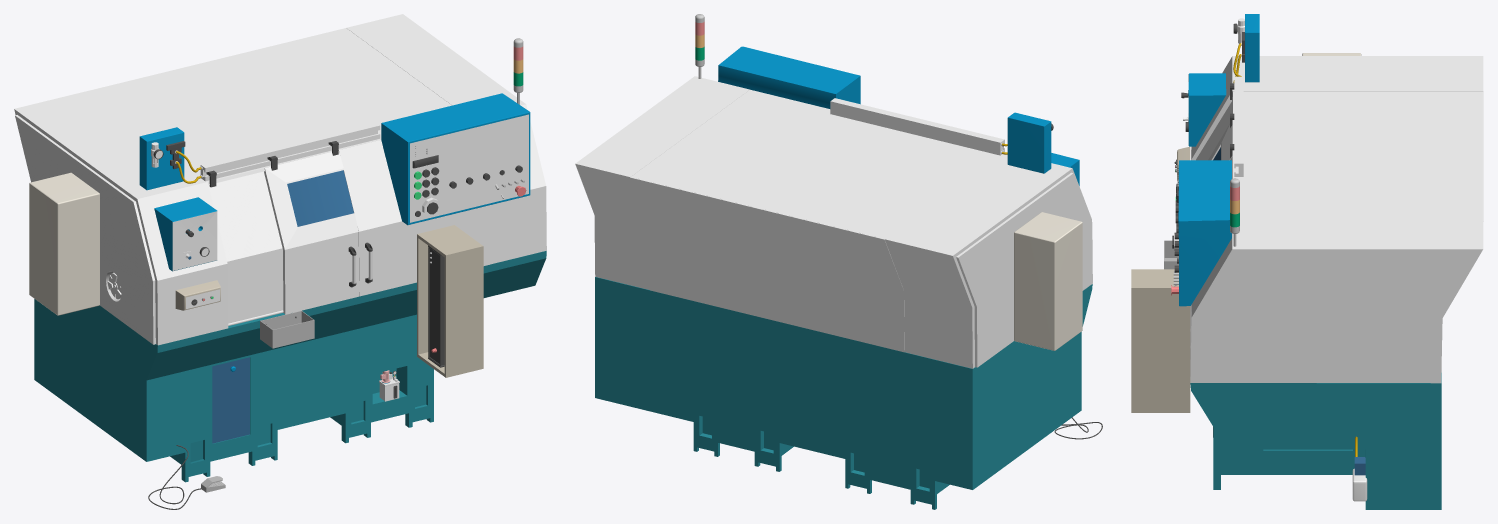
Rendered from asset.glb.
The picture shows the model from 3 angles, left to right: view 1: azimuth 30°, elevation 25°; view 2: azimuth 150°, elevation 25°; view 3: azimuth 270°, elevation 25°; orthographic projection. The views are drawn at different scales.
Parts seen in each view (by area): view 1: polySurface30, polySurface20, polySurface13, polySurface24, pCube41, polySurface21, polySurface27, key_board, polySurface32, pCube35, pCube4, hy_1 (+8 smaller); view 2: polySurface30, polySurface20, polySurface19, polySurface13, polySurface24, pCube41, pCube4, hy_1, hy_5; view 3: polySurface24, polySurface20, polySurface30, polySurface13, pCube35, pCube4, polySurface26, hy_5, hy_1, polySurface32, polySurface27, pCube2.
Boxes of the visible parts, x1,y1,x2,y2 form: polySurface30: (34,251,546,482); polySurface20: (85,28,451,184); polySurface13: (14,92,228,345); polySurface24: (346,14,546,264); pCube41: (29,172,99,315); polySurface21: (338,139,490,296); polySurface27: (264,151,359,314); key_board: (410,114,528,222); polySurface32: (208,171,283,323); pCube35: (417,225,483,377); pCube4: (381,93,530,225); hy_1: (200,122,380,181); polySurface30: (595,277,1092,509); polySurface20: (631,90,998,238); polySurface19: (630,177,904,352); polySurface13: (884,152,1092,368); polySurface24: (575,76,749,289); pCube41: (1014,212,1082,350); pCube4: (718,46,860,108); hy_1: (830,98,1004,155); hy_5: (1007,112,1051,173); polySurface24: (1190,221,1483,383); polySurface20: (1232,91,1482,220); polySurface30: (1190,373,1441,509); polySurface13: (1191,56,1483,160); pCube35: (1131,269,1190,412); pCube4: (1178,160,1231,306); polySurface26: (1188,73,1226,146); hy_5: (1245,14,1259,82); hy_1: (1234,76,1243,176); polySurface32: (1196,102,1231,160); polySurface27: (1208,120,1232,160); pCube2: (1352,468,1367,501).
Size of the model in its own units: 3.14 by 2.4 by 2.13.
